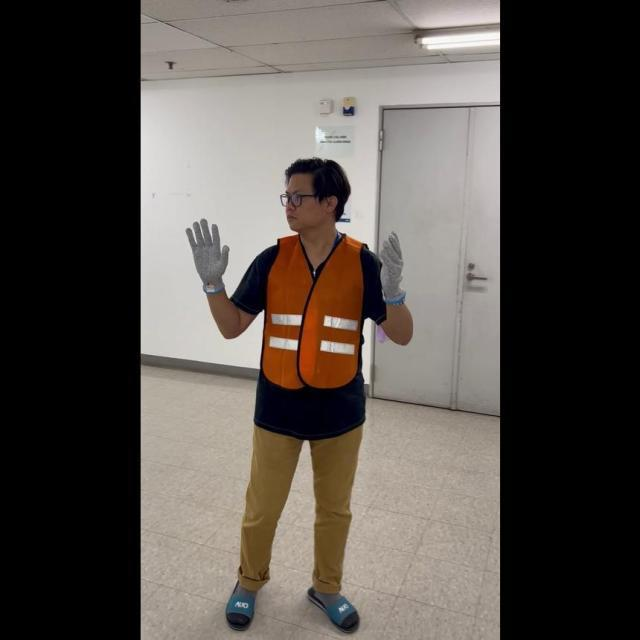gloved_hand: (185, 213, 231, 291), (372, 226, 406, 302)
